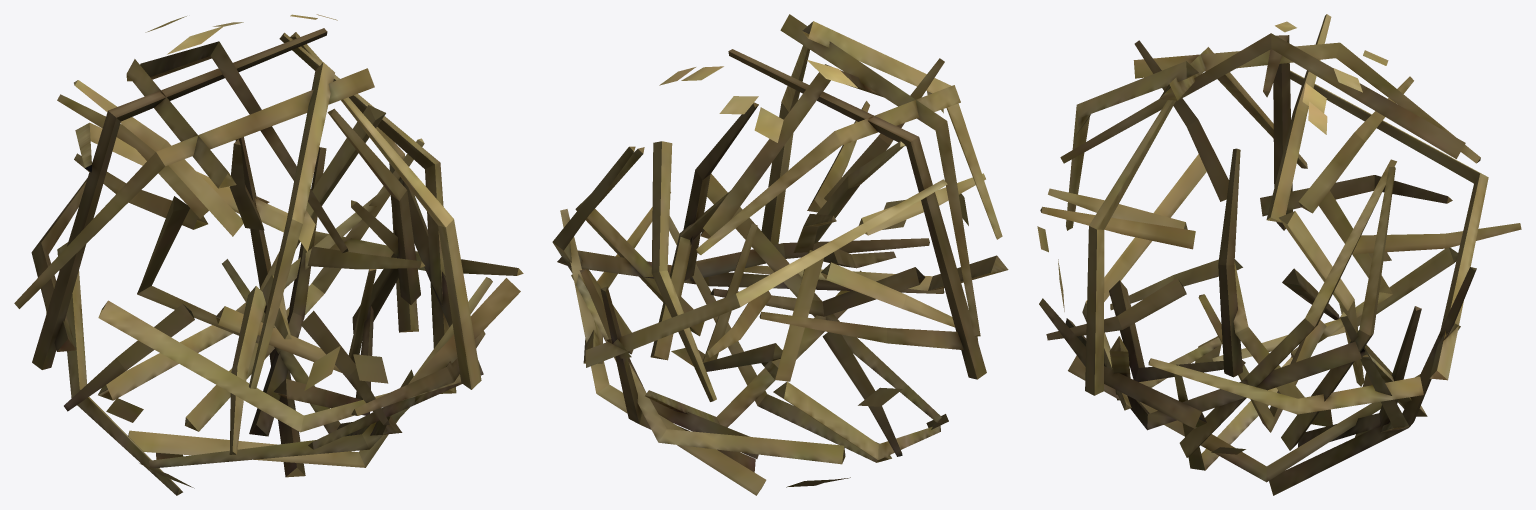
The model's file is tumbleweed.glb.
3 views of the same model, side by side, from view 1: azimuth 30°, elevation 25°; view 2: azimuth 150°, elevation 25°; view 3: azimuth 270°, elevation 25° (orthographic). The views are drawn at different scales.
Parts seen in each view (by area): view 1: Static_Mesh; view 2: Static_Mesh; view 3: Static_Mesh.
Boxes of the visible parts, x1,y1,x2,y2 form: Static_Mesh: [14, 14, 523, 495]; Static_Mesh: [552, 14, 1008, 495]; Static_Mesh: [1037, 14, 1521, 495].
Bounding box in the file's own units: 0.8464 × 0.8719 × 0.8901.
1 material, 1 textured.
